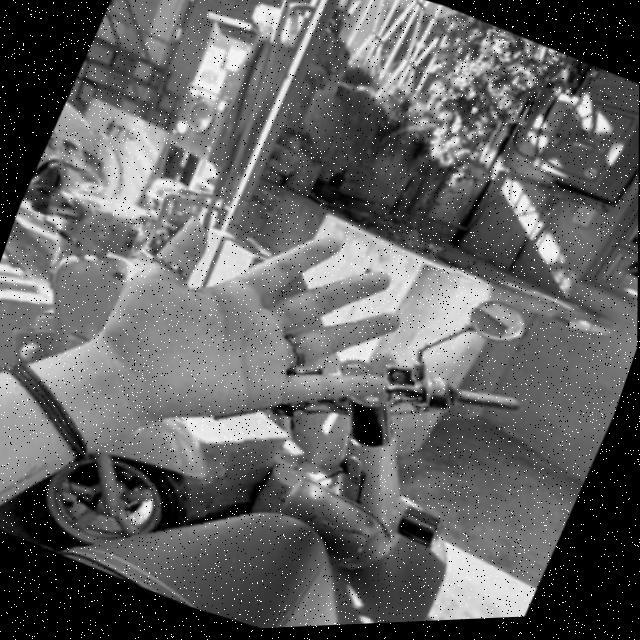no-gloves: (75, 171, 437, 528)
